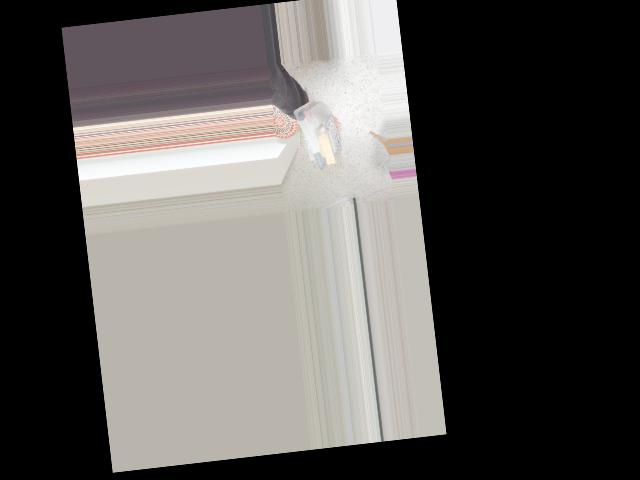cheese: (287, 99, 344, 174)
